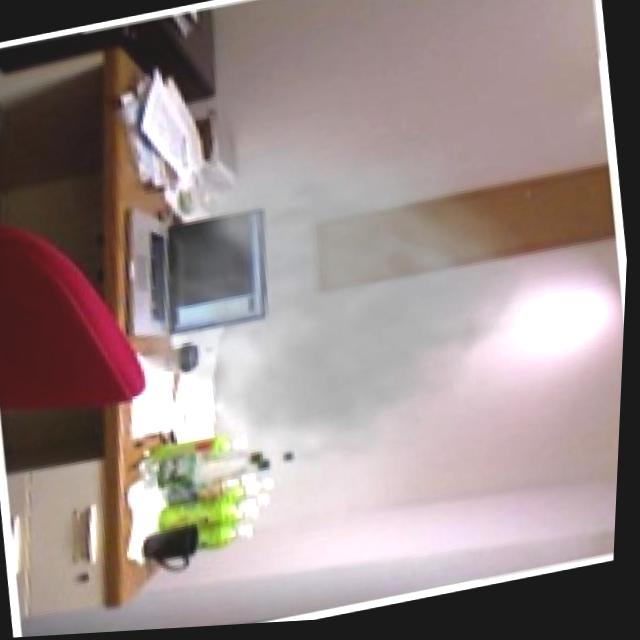Smoke: (107, 101, 567, 548)
